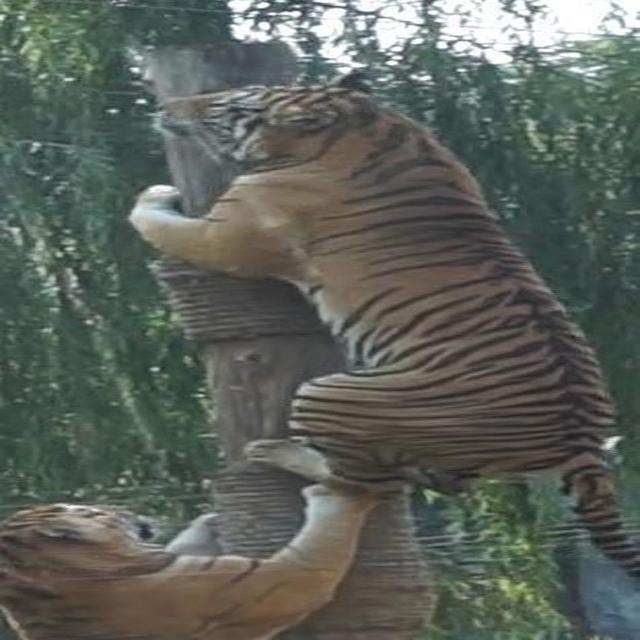tiger: (129, 67, 640, 582), (0, 460, 394, 640)
